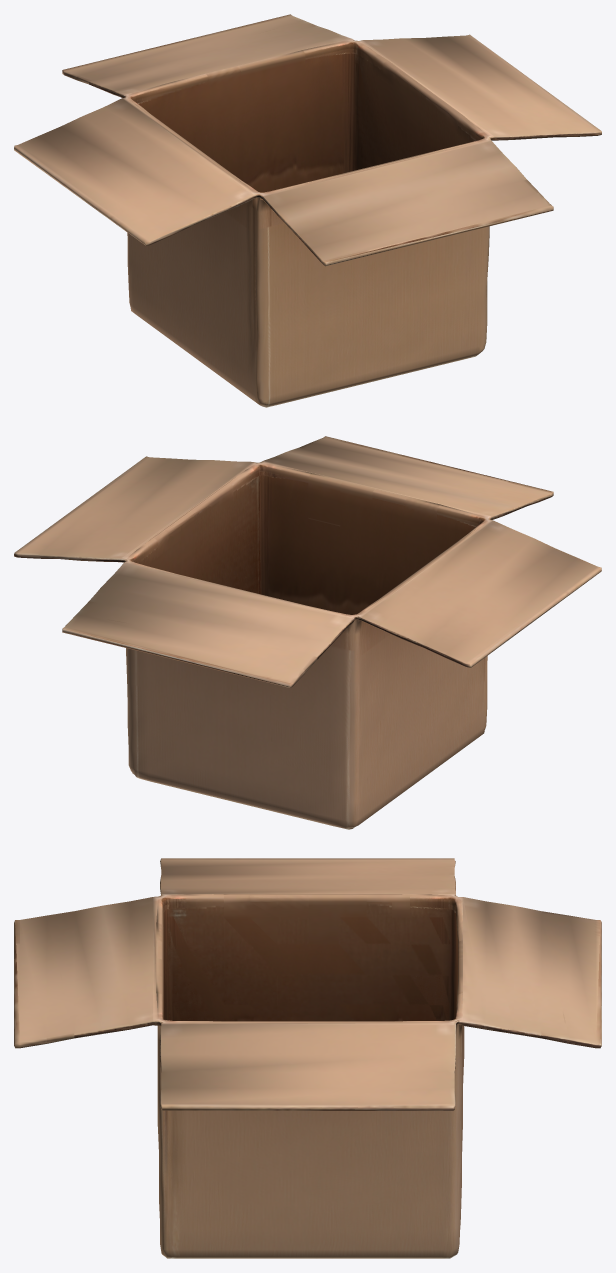
Rendered from Meshy_AI_Cardboard_Box_Opened_0107163547_texture.fbx.
3 renders of one model, top to bottom at view 1: azimuth 30°, elevation 25°; view 2: azimuth 150°, elevation 25°; view 3: azimuth 270°, elevation 25°, orthographic. The views are drawn at different scales.
Parts seen in each view (by area): view 1: Mesh_0; view 2: Mesh_0; view 3: Mesh_0.
Boxes of the visible parts, bbox=[...] form: Mesh_0: bbox=[14, 14, 601, 407]; Mesh_0: bbox=[14, 436, 601, 829]; Mesh_0: bbox=[14, 858, 601, 1258].
Size of the model in its own units: 191 by 88.45 by 191.
Materials: 1 (1 with a texture image).
